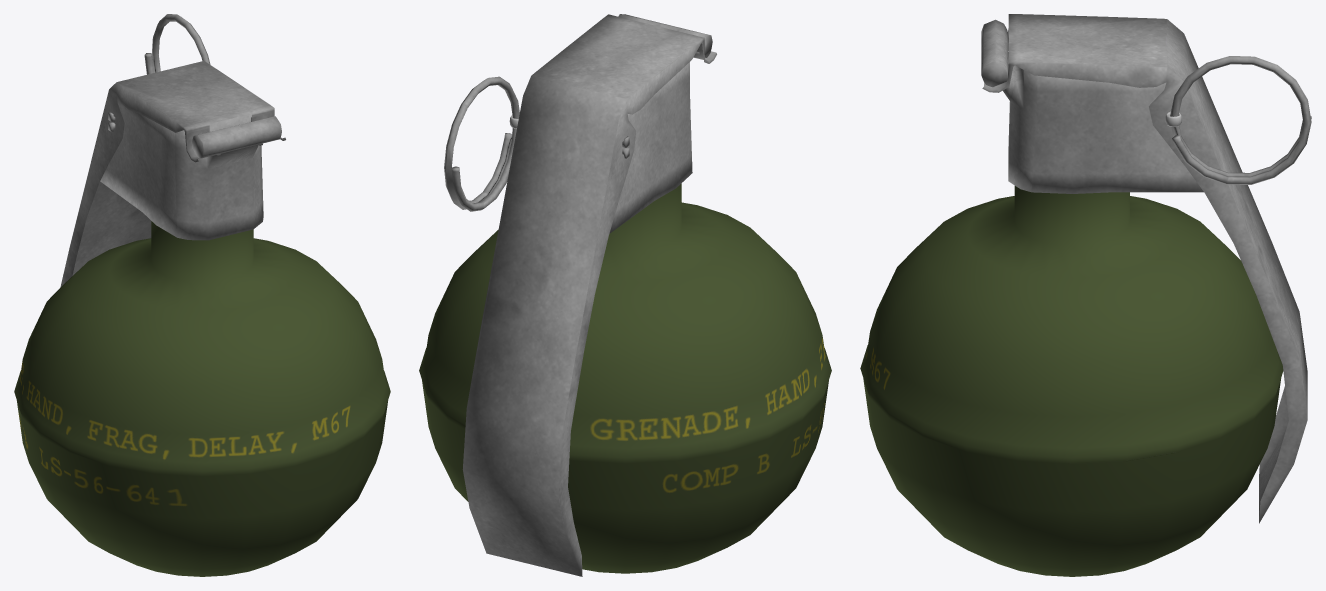
File: grenade.glb
The picture shows the model from 3 angles, left to right: view 1: azimuth 30°, elevation 25°; view 2: azimuth 150°, elevation 25°; view 3: azimuth 270°, elevation 25°; orthographic projection. The views are drawn at different scales.
Visible parts, largest first — view 1: m67_low; view 2: m67_low; view 3: m67_low.
Part boxes in pixels (x1,y1,x2,y2): m67_low: (14, 14, 390, 576); m67_low: (419, 14, 831, 576); m67_low: (860, 14, 1311, 576).
Size of the model in its own units: 9.7 by 13.37 by 10.33.
Materials: 1 (1 with a texture image).
